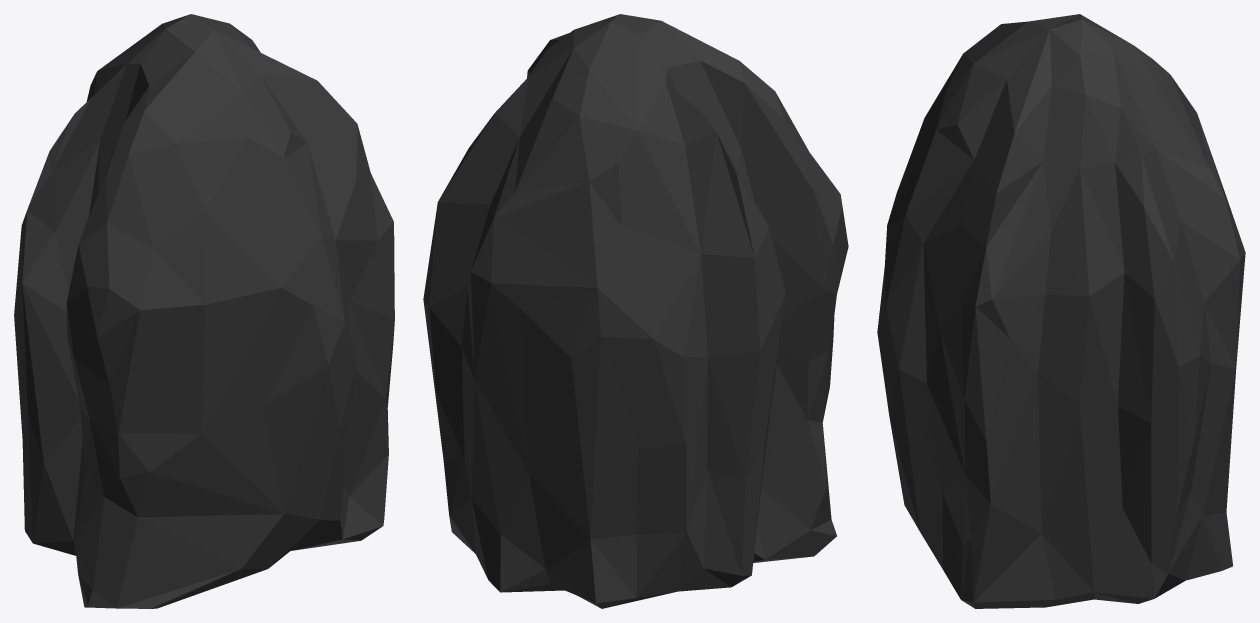
The model's file is Rochedo.fbx.
3 renders of one model, left to right at view 1: azimuth 30°, elevation 25°; view 2: azimuth 150°, elevation 25°; view 3: azimuth 270°, elevation 25°, orthographic. The views are drawn at different scales.
Parts seen in each view (by area): view 1: Rochedo; view 2: Rochedo; view 3: Rochedo.
Part boxes in pixels (<box>): Rochedo: <box>14,14,394,608</box>; Rochedo: <box>423,14,848,608</box>; Rochedo: <box>877,14,1245,608</box>.
Size of the model in its own units: 652 by 1003 by 621.
